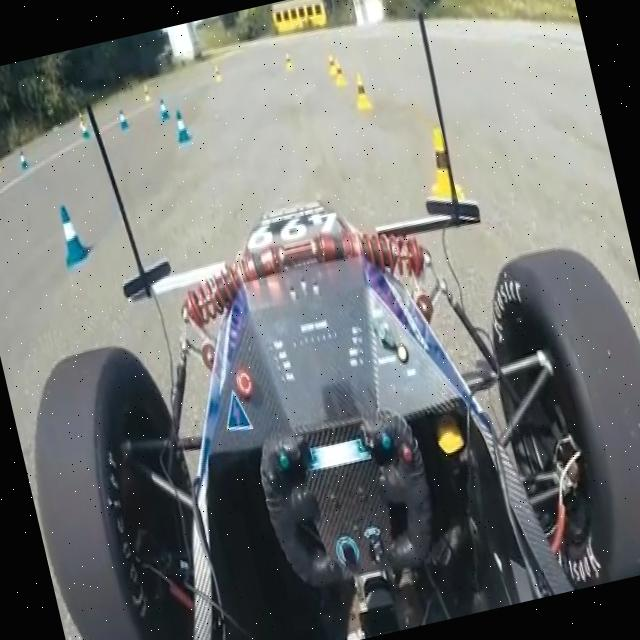blue_cone: (48, 200, 94, 270), (169, 100, 197, 150), (110, 100, 134, 142), (150, 89, 173, 124)
yellow_cone: (418, 122, 478, 222), (350, 66, 379, 116), (320, 44, 353, 84), (276, 37, 300, 70)
